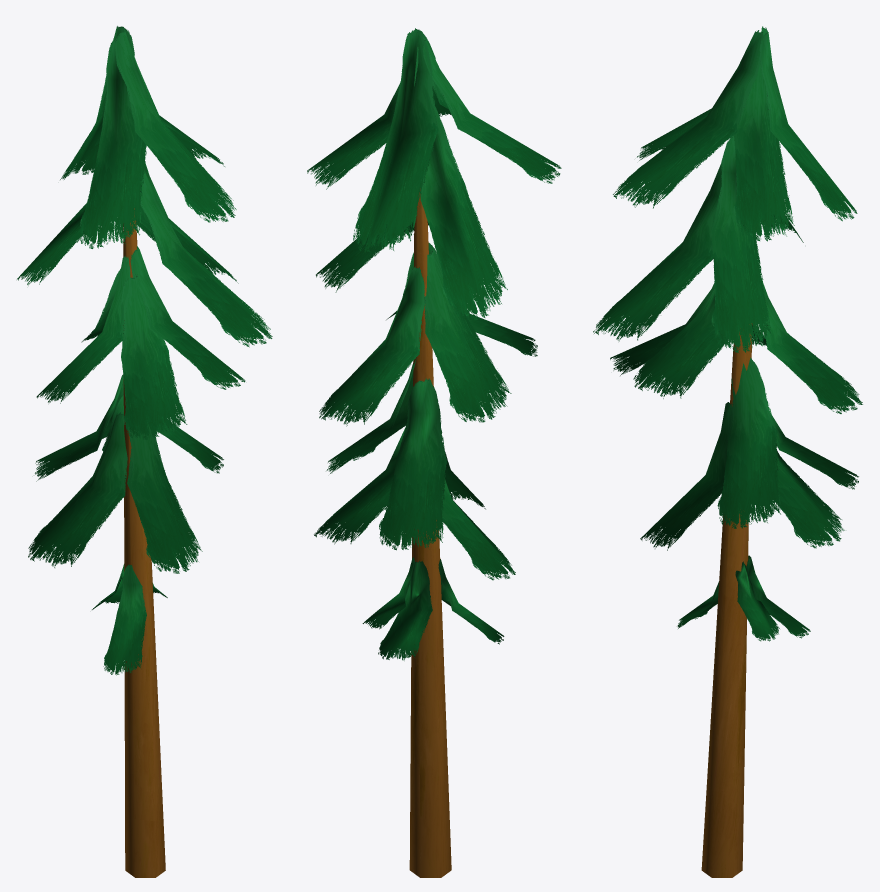
File: SM_Tree2_01_LOD1.fbx
The picture shows the model from 3 angles, left to right: view 1: azimuth 30°, elevation 25°; view 2: azimuth 150°, elevation 25°; view 3: azimuth 270°, elevation 25°; orthographic projection. The views are drawn at different scales.
Visible parts, largest first — view 1: LOD_1, SM_Tree2_01_LOD1; view 2: LOD_1, SM_Tree2_01_LOD1; view 3: LOD_1, SM_Tree2_01_LOD1.
Part boxes in pixels (x1=…): LOD_1: x1=17, y1=26, x2=272, y2=675; SM_Tree2_01_LOD1: x1=123, y1=208, x2=165, y2=877; LOD_1: x1=307, y1=28, x2=561, y2=660; SM_Tree2_01_LOD1: x1=409, y1=188, x2=451, y2=877; LOD_1: x1=593, y1=26, x2=862, y2=641; SM_Tree2_01_LOD1: x1=701, y1=323, x2=752, y2=877.
Bounding box in the file's own units: 298 × 1185 × 345.
